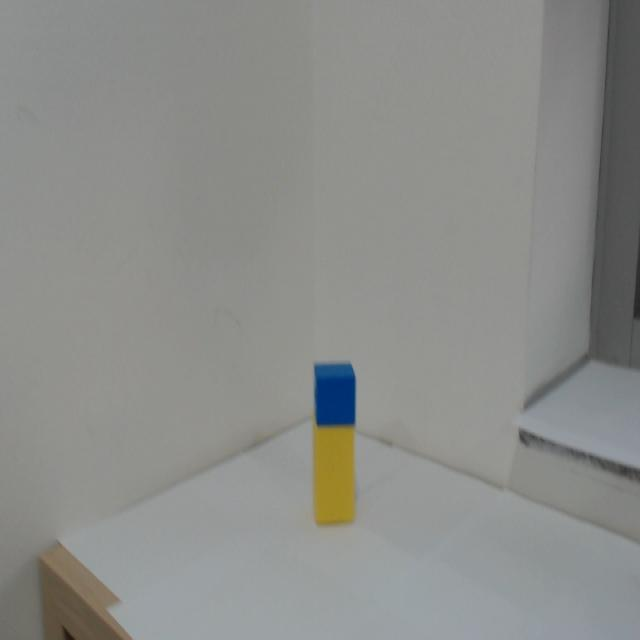cube: (312, 361, 356, 426)
